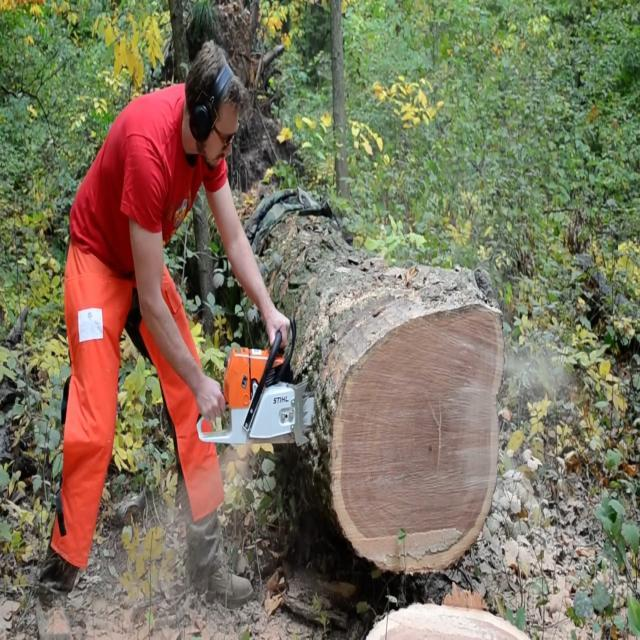Chainsaw: (173, 328, 332, 456)
